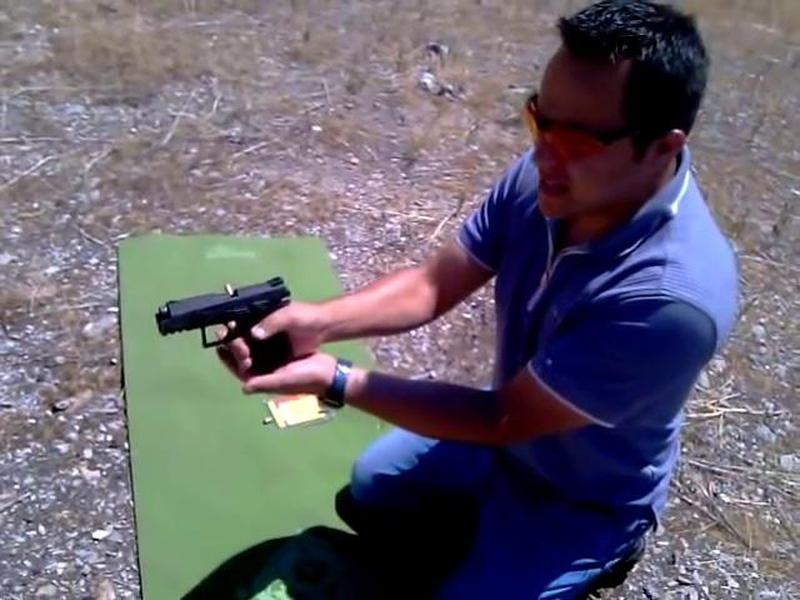Pistola: (147, 269, 315, 389)
